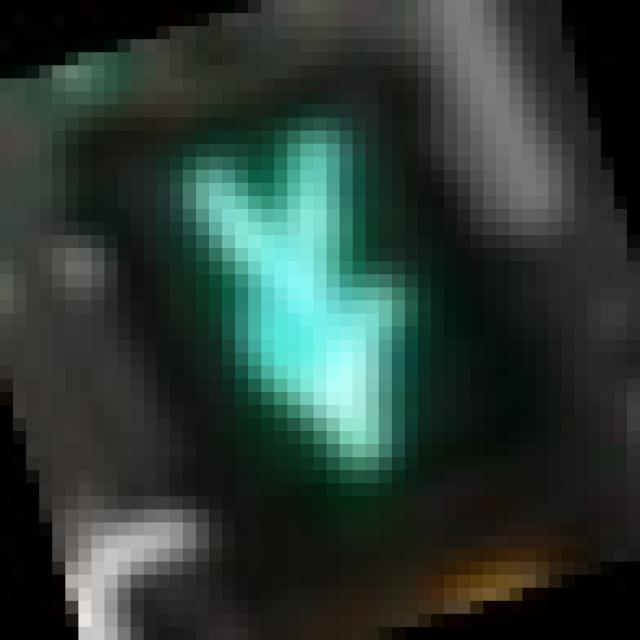green_light: (79, 39, 522, 549)
